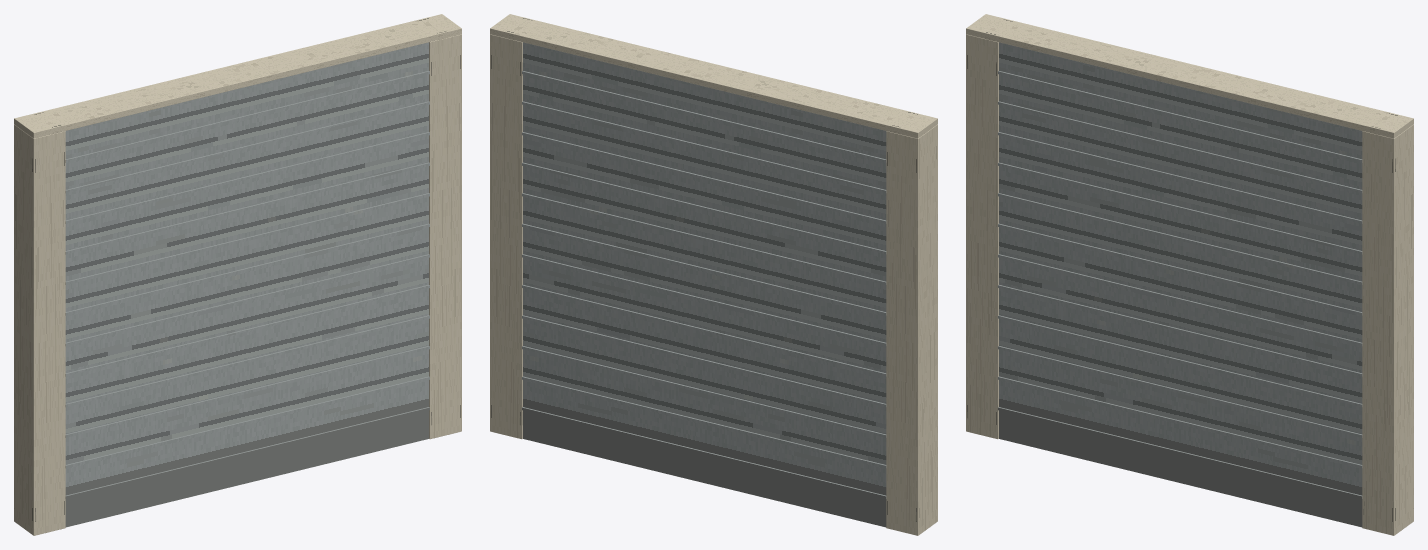
File: house_02_wall_solid.glb
3 views of the same model, side by side, from view 1: azimuth 30°, elevation 25°; view 2: azimuth 150°, elevation 25°; view 3: azimuth 330°, elevation 25° (orthographic).
Parts seen in each view (by area): view 1: house_02_wall_solid; view 2: house_02_wall_solid; view 3: house_02_wall_solid.
Part boxes in pixels (bbox=[...]): house_02_wall_solid: bbox=[14, 14, 461, 535]; house_02_wall_solid: bbox=[490, 14, 937, 535]; house_02_wall_solid: bbox=[966, 14, 1413, 535].
Size of the model in its own units: 3 by 2.7 by 0.24.
Materials: 2 (2 with a texture image).
